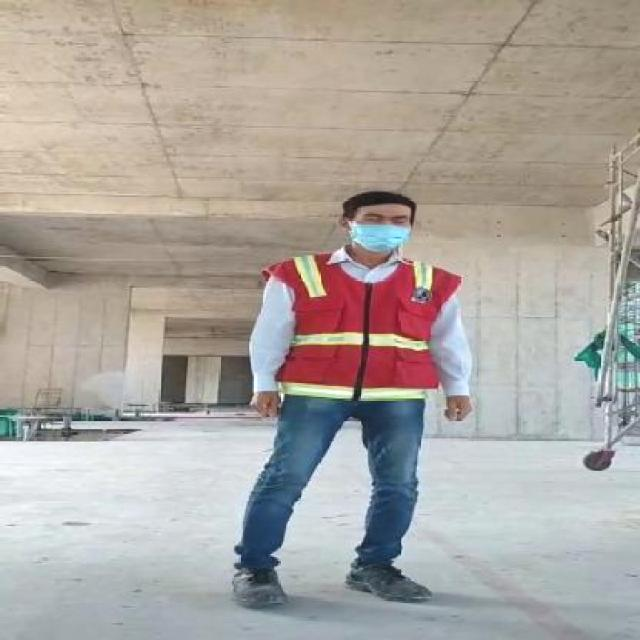face_mask: (352, 208, 412, 252)
hand_noglove: (435, 389, 479, 425), (245, 385, 284, 421)
head_nohelmet: (340, 186, 426, 220)
person: (231, 179, 472, 624)
shoes: (336, 552, 438, 611), (226, 555, 294, 611)
vest: (262, 252, 460, 402)
